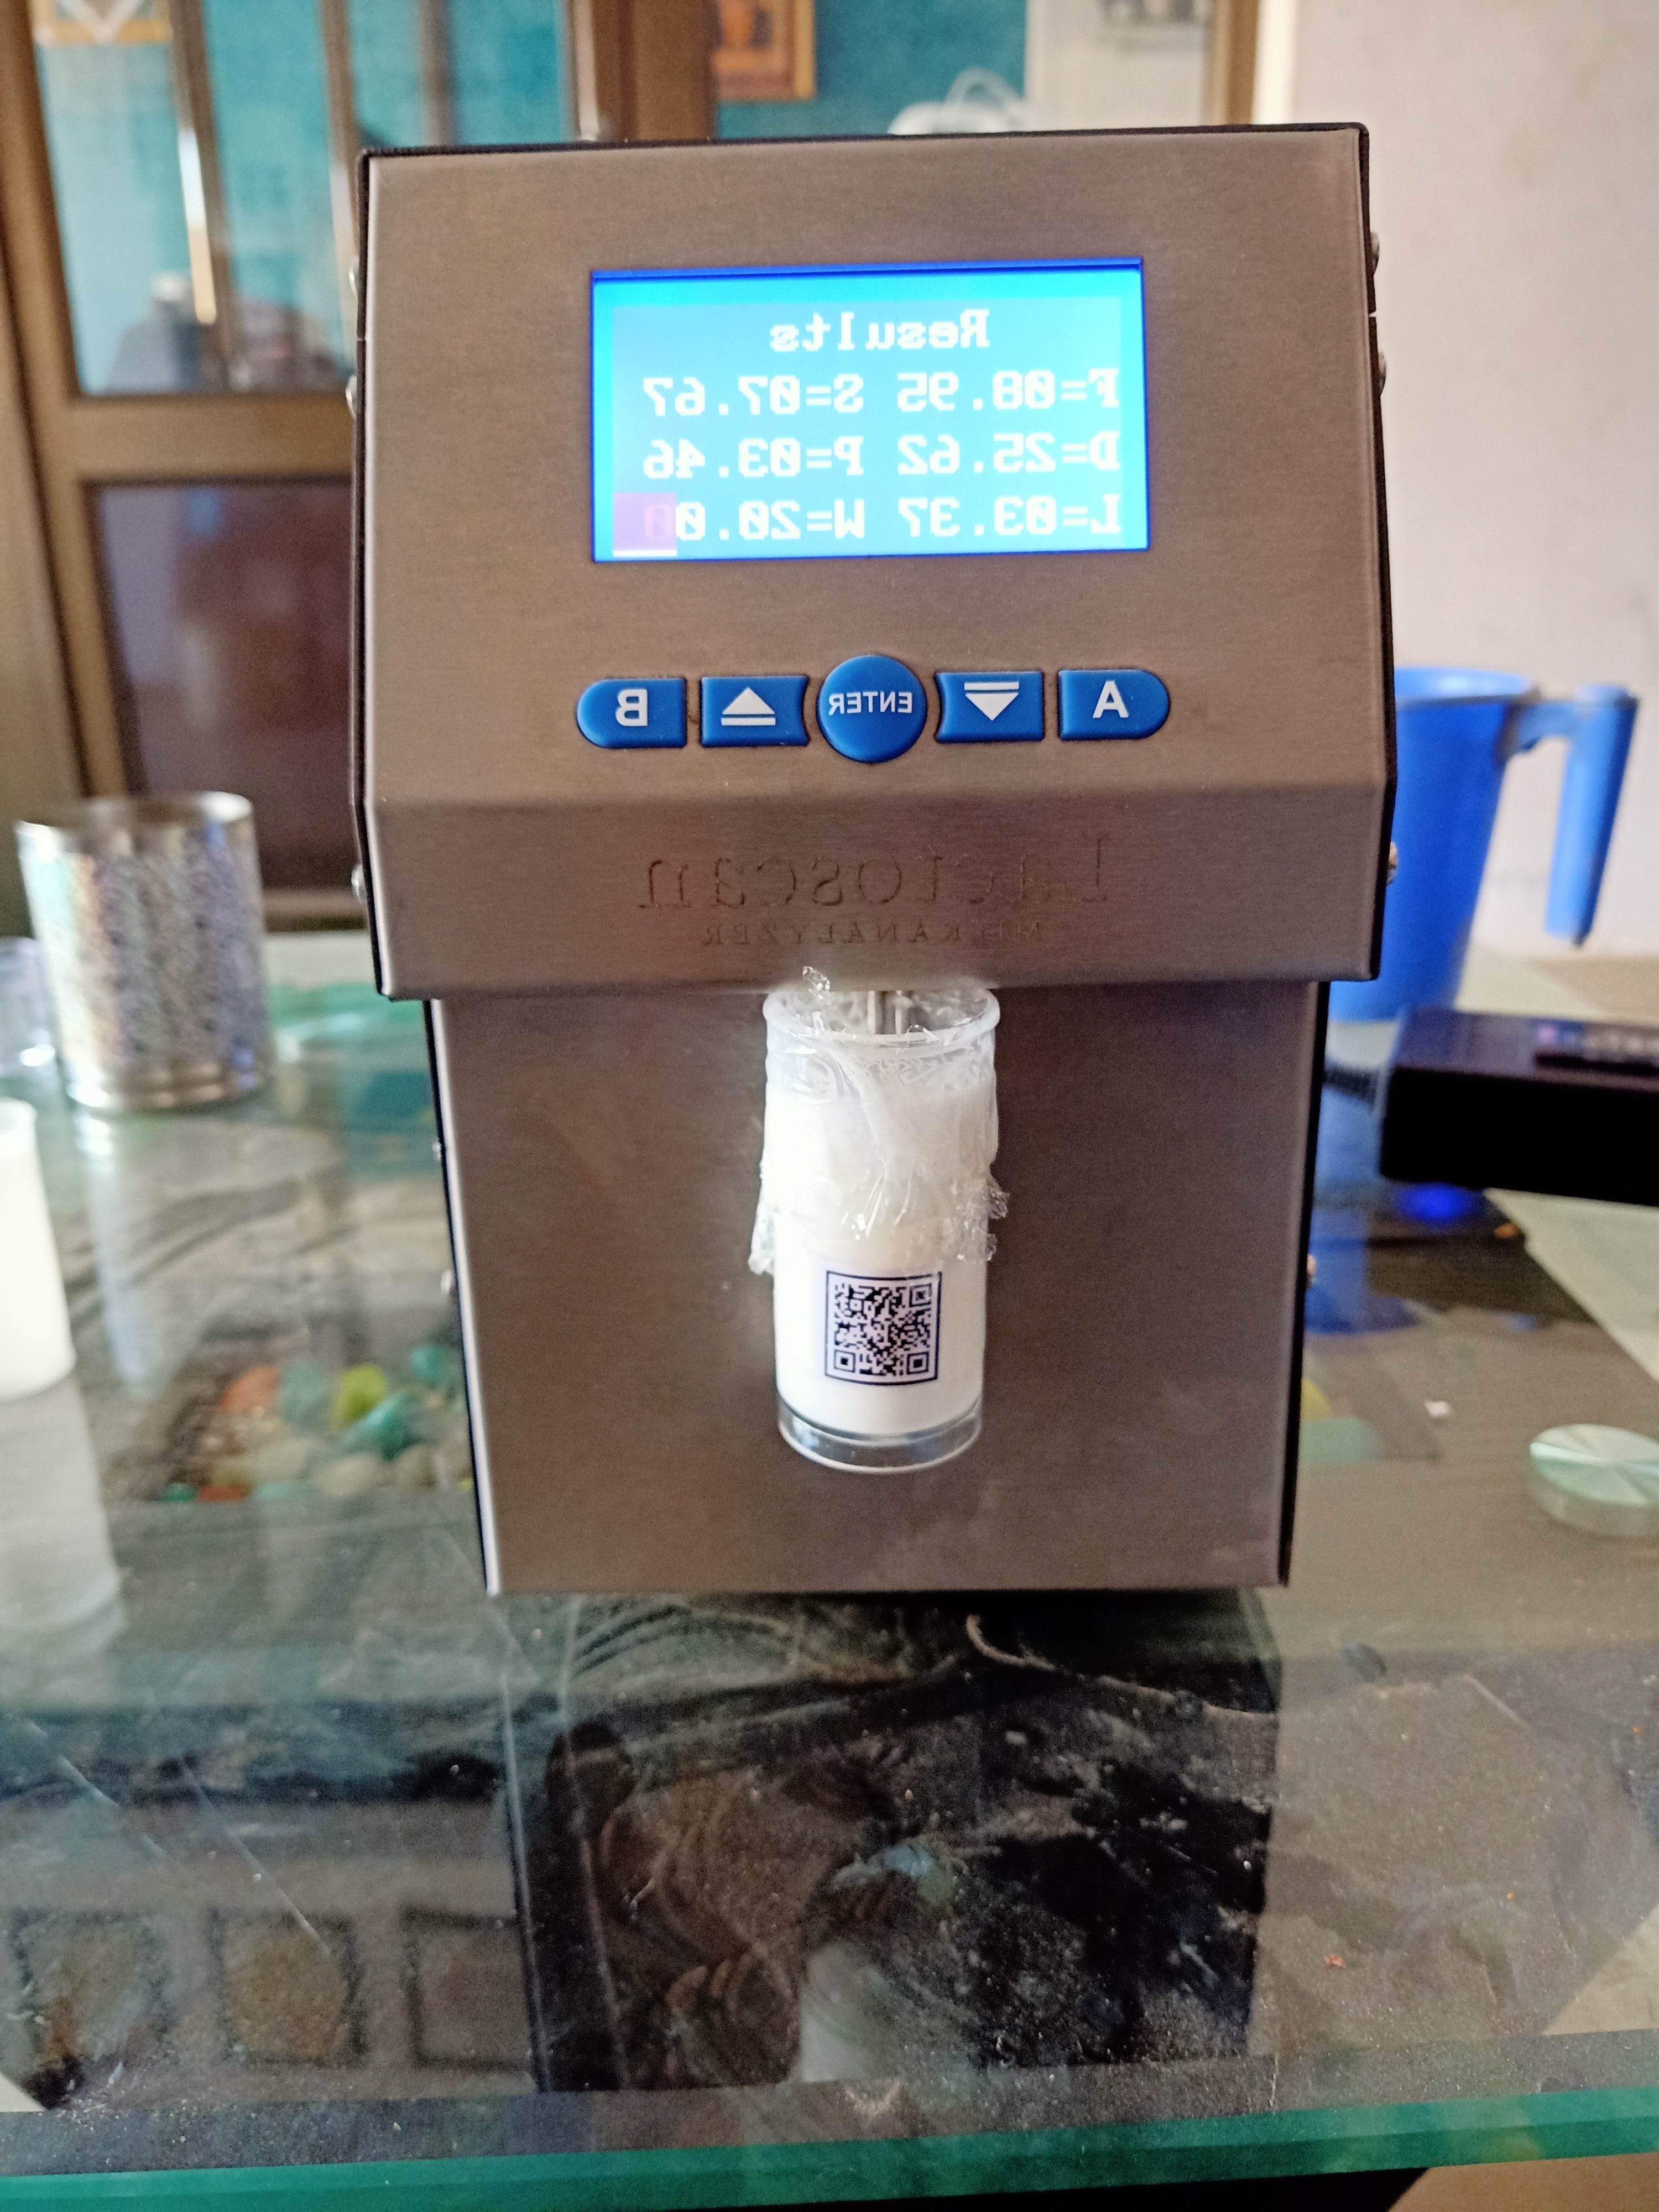lcd: (551, 246, 1173, 583)
qr: (824, 1264, 962, 1407)
